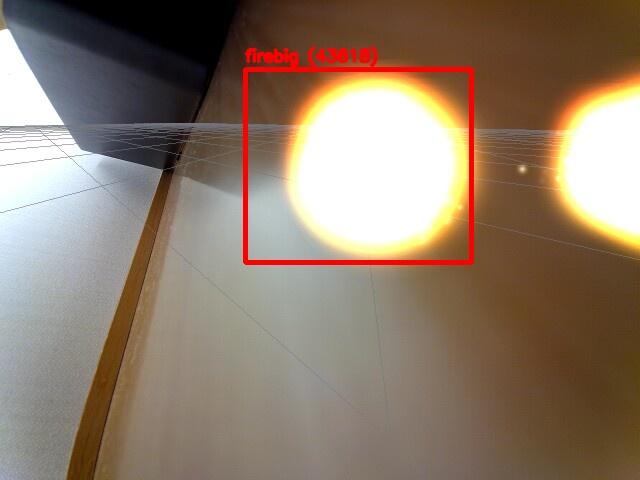firebig: (245, 69, 471, 262)
